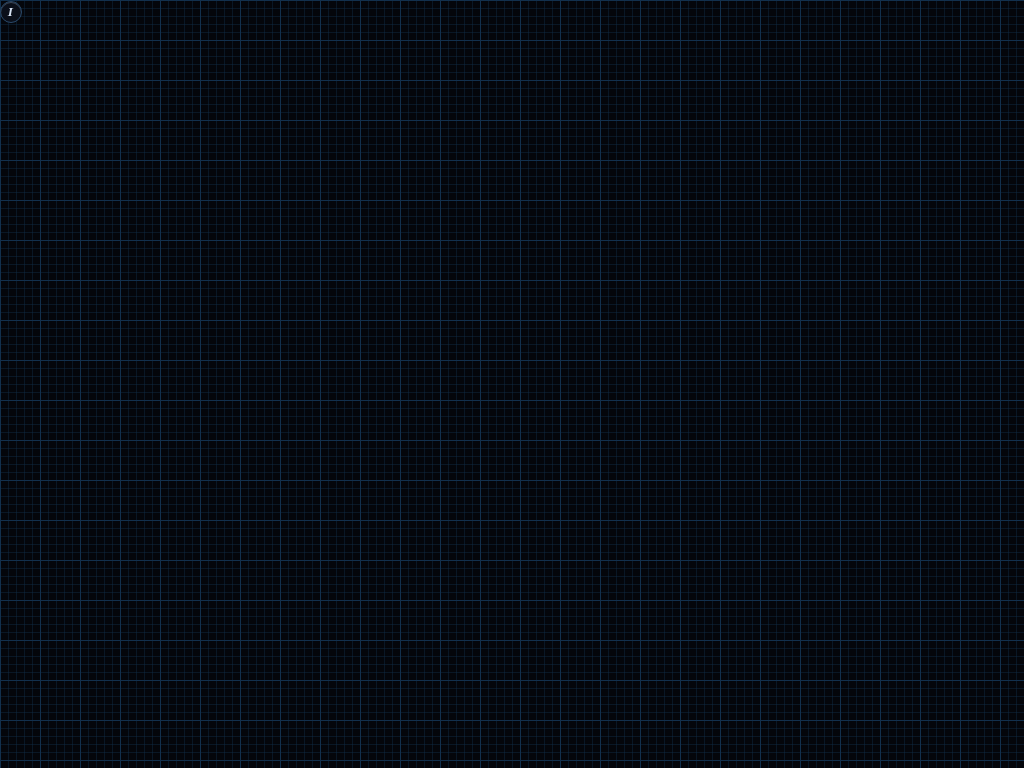
Test: InfoPopover › closes with its Close button
Click the button named "About X": x=11, y=12 [0,1,22,23]
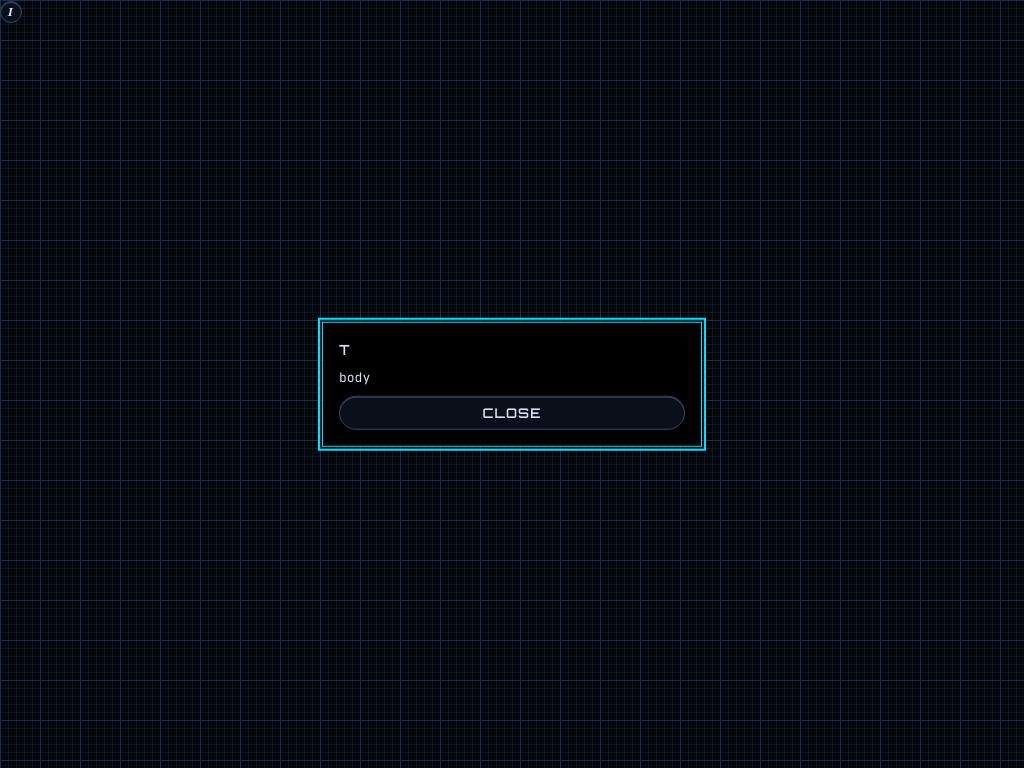
Click the button "Close": x=512, y=412 [339,395,685,429]
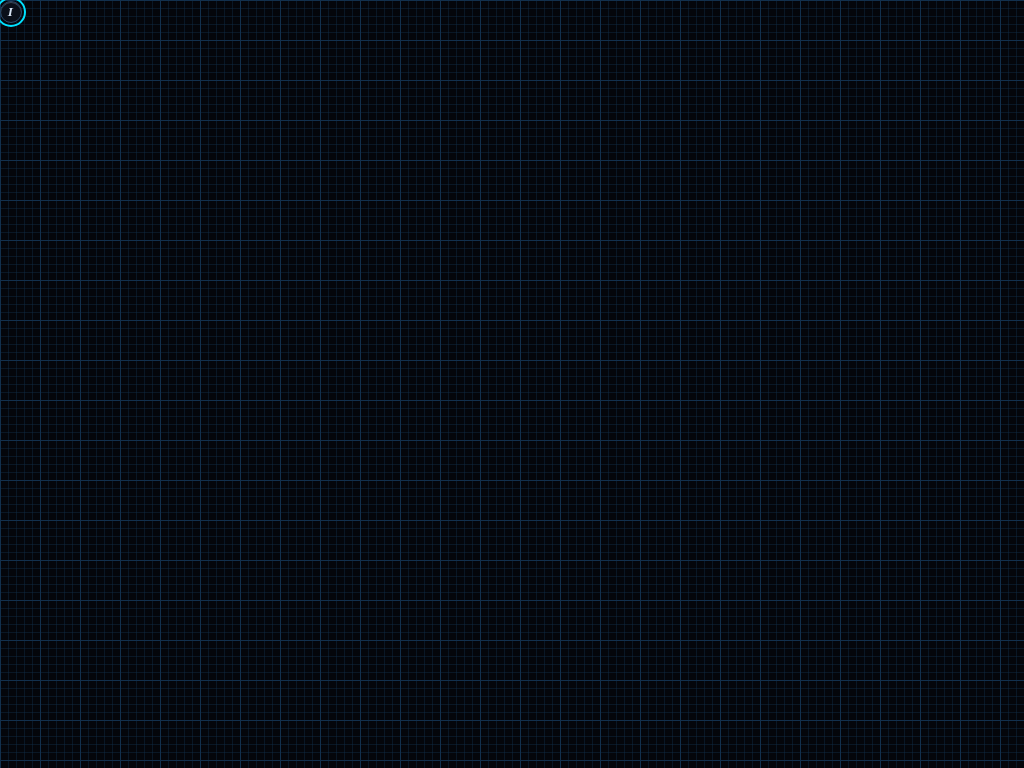
Expected: the dialog is gone
